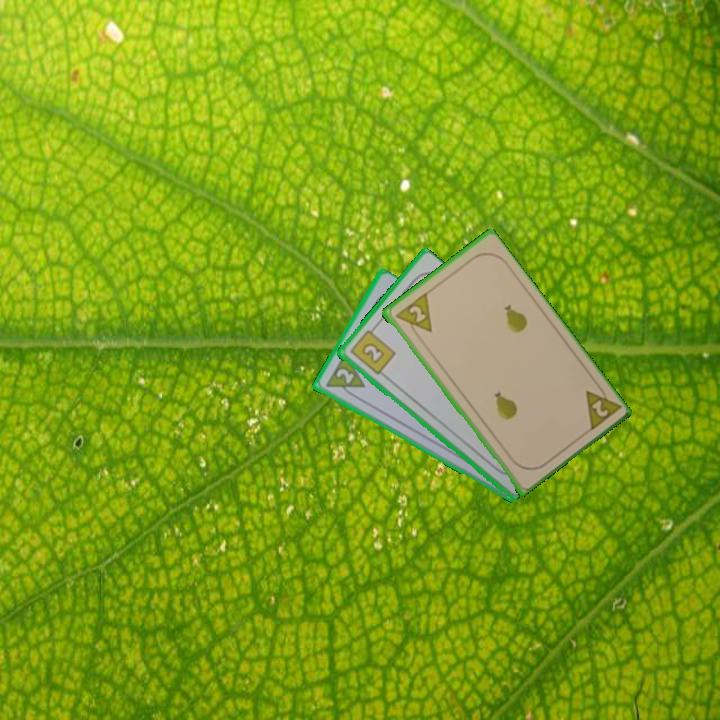2b: (346, 323, 398, 378)
2p: (321, 350, 368, 402), (581, 379, 622, 435), (391, 290, 435, 342)
